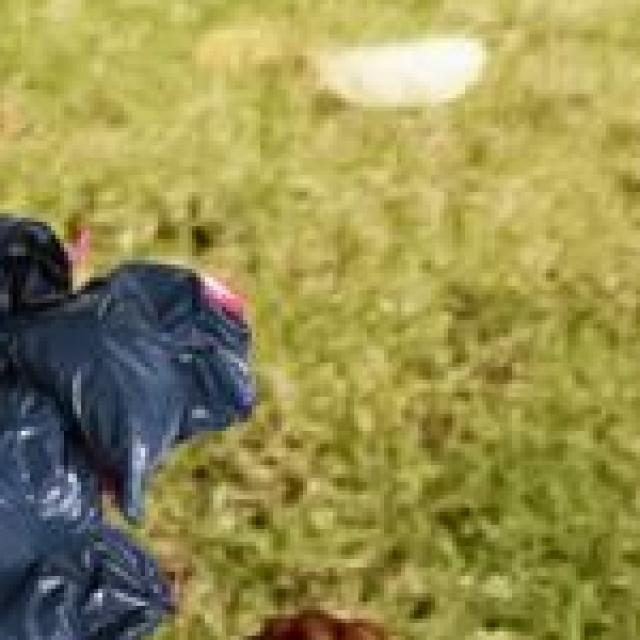Trashbag: (47, 266, 253, 462), (20, 537, 150, 634), (0, 424, 88, 529), (0, 210, 78, 304)
